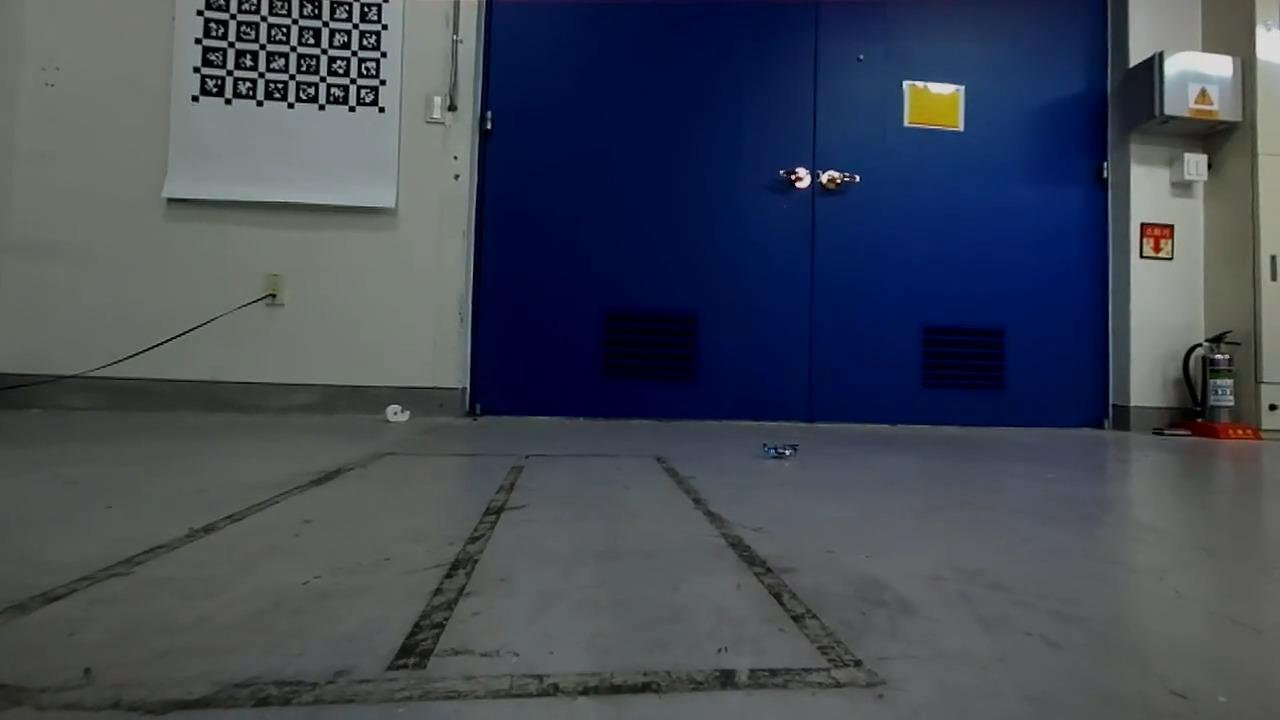crazyflie: (758, 435, 803, 465)
